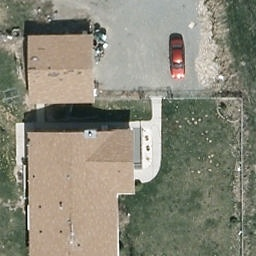car: (169, 38, 187, 80)
